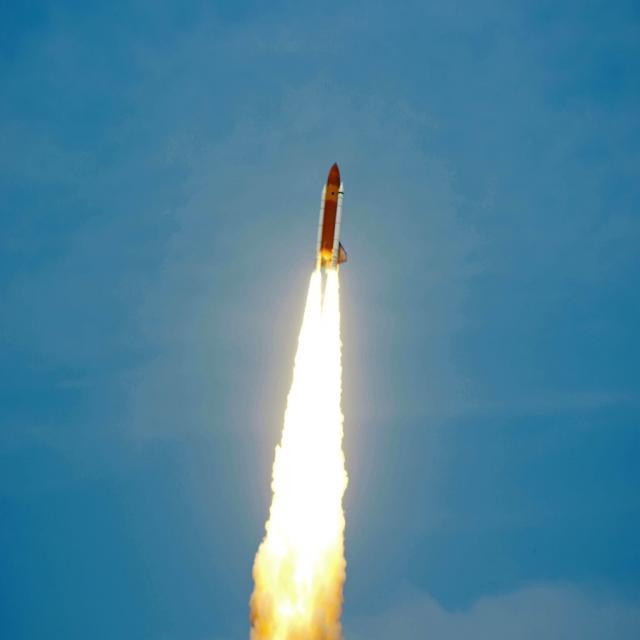missile: (314, 156, 360, 272)
